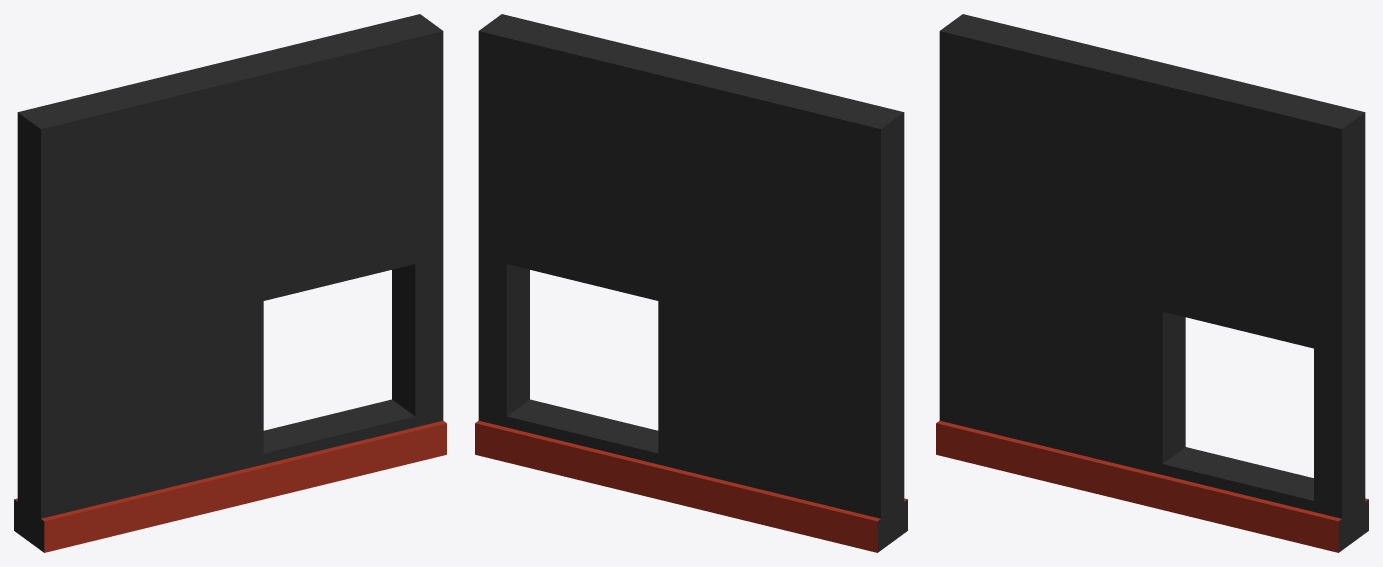
The model's file is Wall_ShaftOpening.fbx.
3 renders of one model, left to right at view 1: azimuth 30°, elevation 25°; view 2: azimuth 150°, elevation 25°; view 3: azimuth 330°, elevation 25°, orthographic.
Parts seen in each view (by area): view 1: BasicWall.005; view 2: BasicWall.005; view 3: BasicWall.005.
Boxes of the visible parts, x1,y1,x2,y2 form: BasicWall.005: (14,14,446,552); BasicWall.005: (475,14,907,552); BasicWall.005: (936,14,1368,552).
Size of the model in its own units: 200 by 200 by 26.
